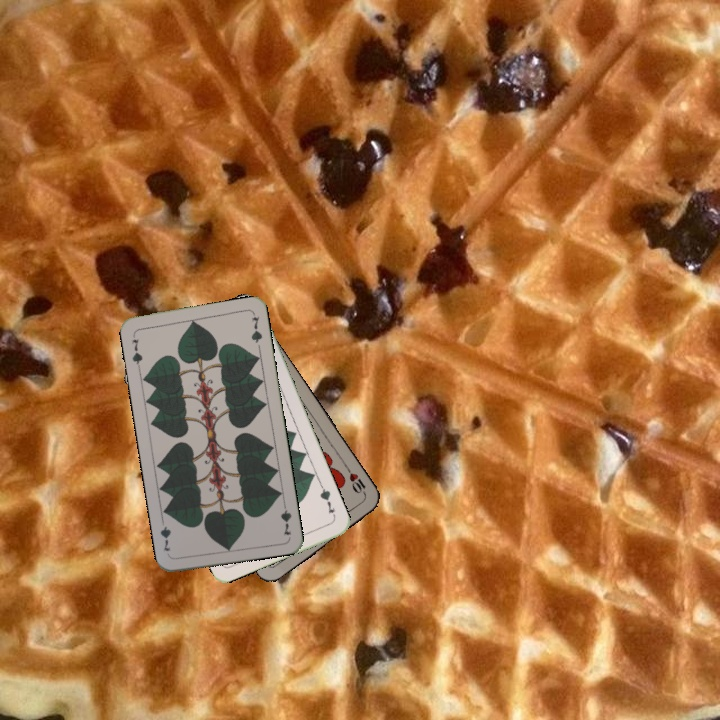G7: (316, 482, 337, 516), (277, 497, 294, 538), (128, 335, 145, 371)
H10: (342, 463, 369, 499)
